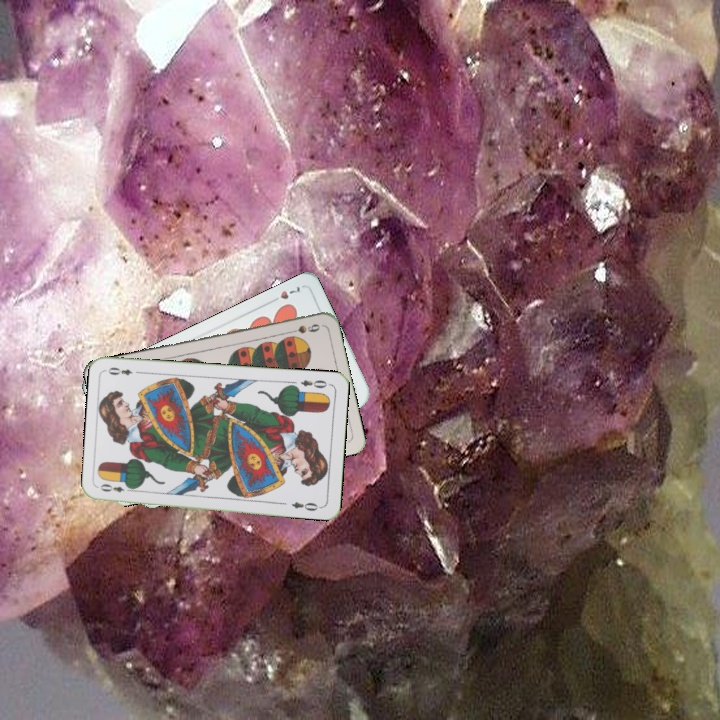EO: (96, 480, 136, 495), (296, 376, 329, 391)
H7: (266, 282, 303, 305)
S9: (283, 320, 323, 336)
